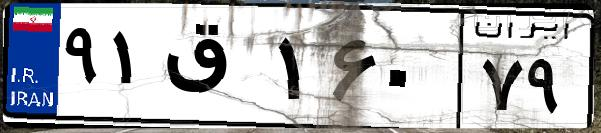0: (385, 28, 445, 110)
1: (270, 28, 330, 110), (110, 28, 158, 98)
6: (330, 28, 385, 110)
7: (475, 38, 525, 113)
9: (57, 26, 110, 100), (525, 38, 570, 115)
ق: (158, 20, 270, 120)
